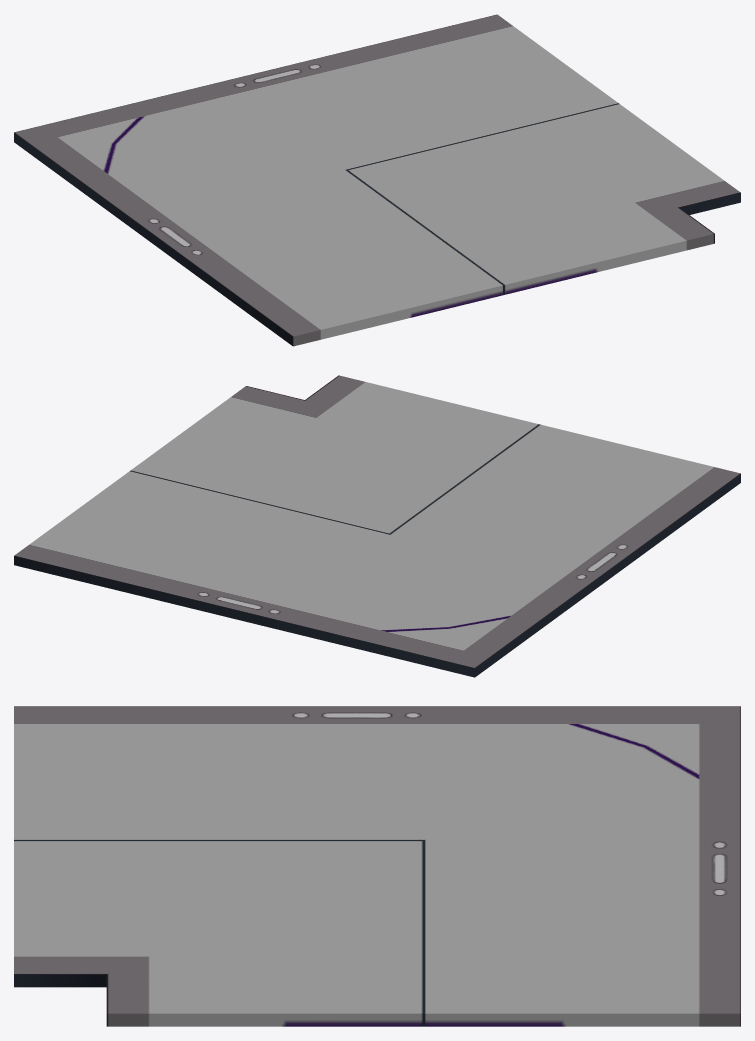
File: KF_SM_LSide004.fbx
3 renders of one model, top to bottom at view 1: azimuth 30°, elevation 25°; view 2: azimuth 150°, elevation 25°; view 3: azimuth 270°, elevation 25°, orthographic. The views are drawn at different scales.
Parts seen in each view (by area): view 1: KF_SM_LSideW004; view 2: KF_SM_LSideW004; view 3: KF_SM_LSideW004.
Boxes of the visible parts, <box> form: KF_SM_LSideW004: <box>14,14,740,346</box>; KF_SM_LSideW004: <box>14,375,740,677</box>; KF_SM_LSideW004: <box>14,706,740,1026</box>.
Bounding box in the file's own units: 2567 × 50 × 2567.
1 material, 1 textured.
